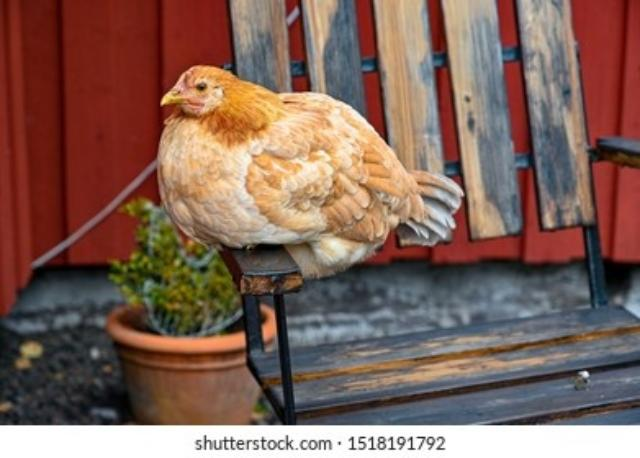Chicken: (155, 65, 462, 277)
